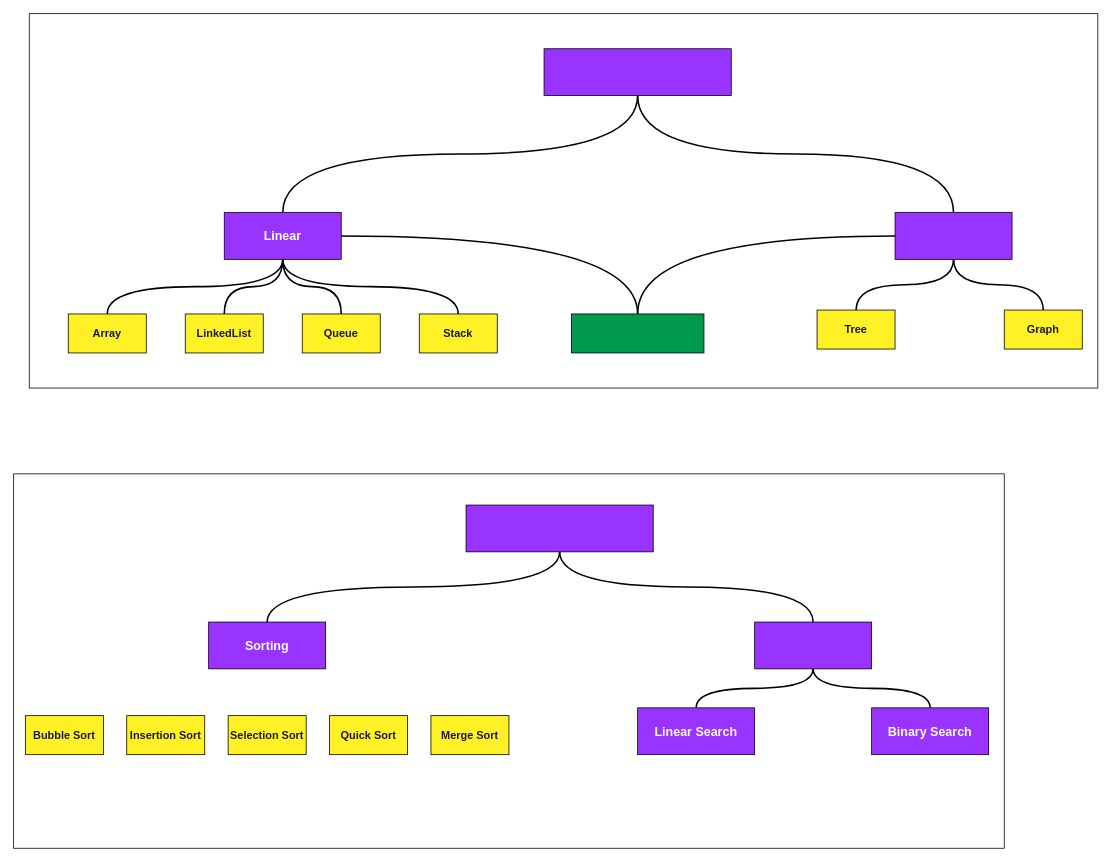
Some shapes in this 1112 by 862 pixel diagram are drawn without their labels. The shapes that lost their labels are listed below. From the top down, each one's box as (x1, y1, x2, y2) in pixels, then its label:
(543, 48, 731, 96): Data structures
(894, 212, 1012, 259): Non-Linear
(571, 313, 704, 353): HashMap (Hashtable, Map, Dictionary )
(465, 504, 653, 552): Algorithms
(754, 621, 872, 669): Searching
